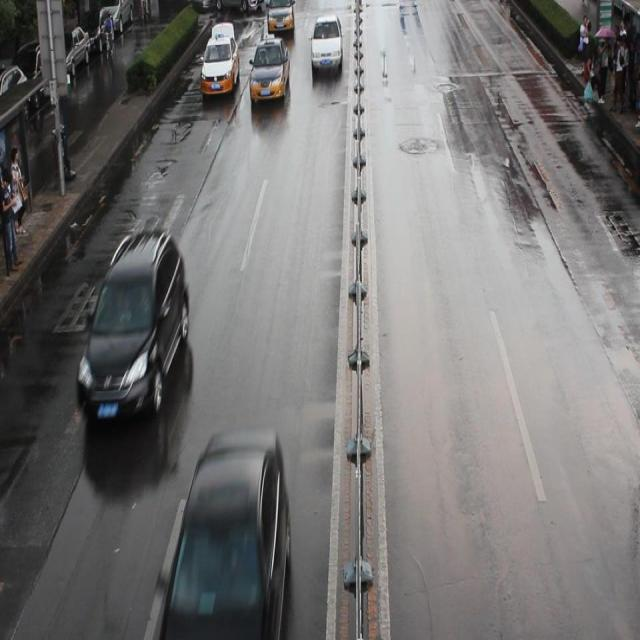car: (152, 429, 291, 640), (76, 230, 190, 425), (248, 34, 289, 101), (200, 35, 240, 95), (309, 15, 342, 69), (266, 2, 294, 34), (204, 1, 264, 13)
